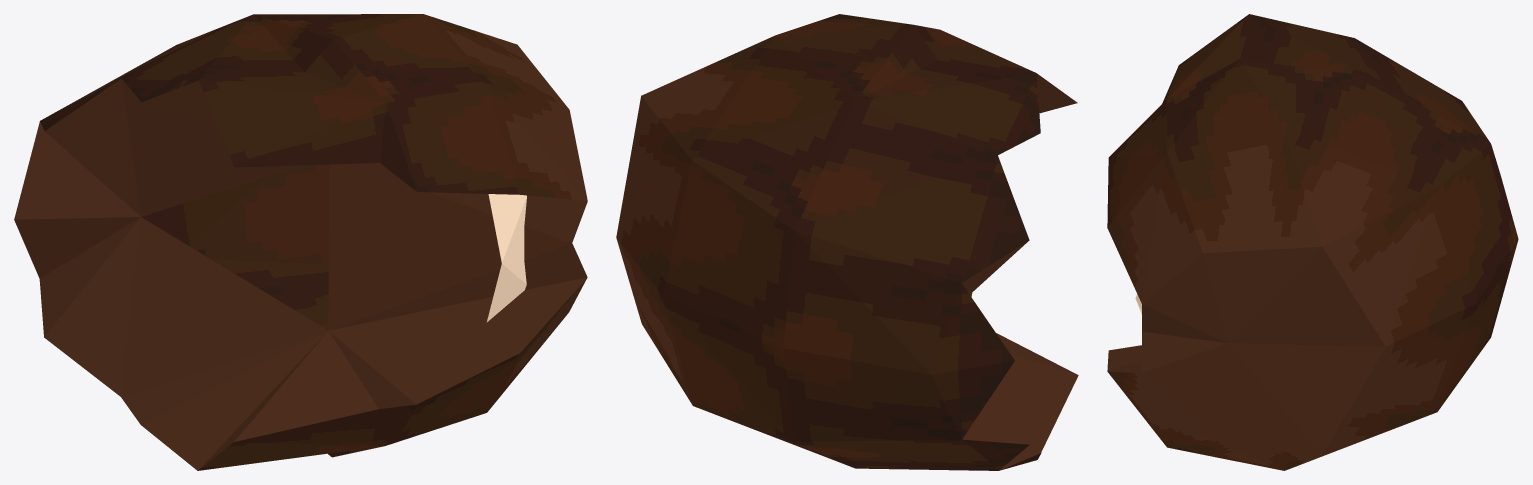
The model's file is hair27.glb.
3 renders of one model, left to right at view 1: azimuth 30°, elevation 25°; view 2: azimuth 150°, elevation 25°; view 3: azimuth 270°, elevation 25°, orthographic. The views are drawn at different scales.
Visible parts, largest first — view 1: tomodachi-2026-03-16-00-15-21-319, tomodachi-2026-03-16-00-15-21-319.008; view 2: tomodachi-2026-03-16-00-15-21-319; view 3: tomodachi-2026-03-16-00-15-21-319.
Part boxes in pixels (<box>): tomodachi-2026-03-16-00-15-21-319: <box>14,14,587,470</box>; tomodachi-2026-03-16-00-15-21-319.008: <box>486,194,526,322</box>; tomodachi-2026-03-16-00-15-21-319: <box>616,14,1078,470</box>; tomodachi-2026-03-16-00-15-21-319: <box>1107,14,1518,470</box>.
Size of the model in its own units: 1.56 by 1.41 by 1.39.
Materials: 2 (2 with a texture image).
